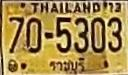0: (25, 17, 41, 52), (90, 16, 104, 52)
3: (73, 17, 88, 52), (107, 16, 121, 51)
5: (56, 16, 70, 52)
7: (8, 17, 24, 52)
RBR: (46, 56, 89, 75)
